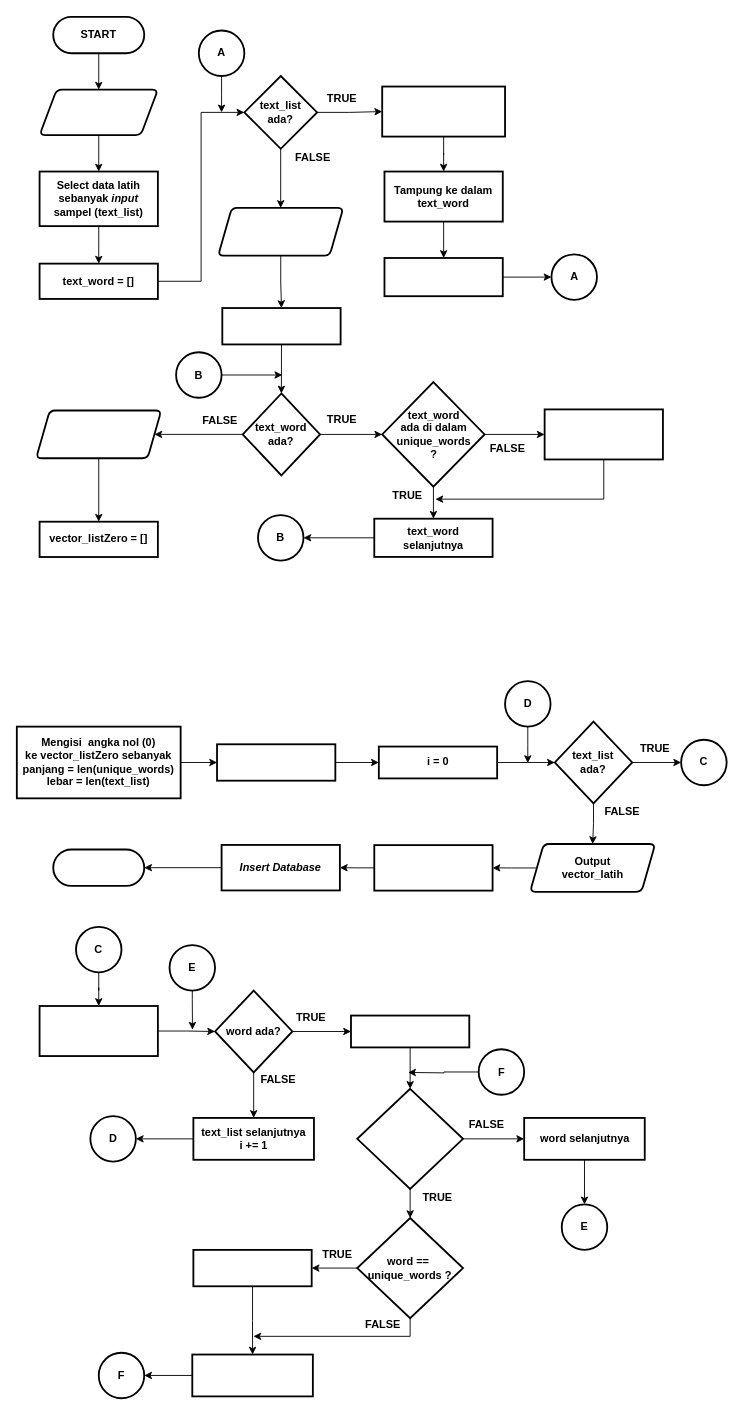
Image size: 743x1414. Some labels were removed from this diagram. Each missing label, with the centre of its shape:
"END" goes at (98,867).
"Input sampel positif & negatif" goes at (98,112).
"j = 0" goes at (410,1031).
"Output fitur kata ( unique_words )" goes at (98,434).
"Output list kata ( text_word )" goes at (280,231).
"Pecah menjadi satuan kata (word)" goes at (98,1031).
"Pecah text_list menjadi satuan kata" goes at (443,111).
"Simpan ke dalam file JSON" goes at (433,867).
"Tampung ke dalam unique_words" goes at (603,434).
"text_list selanjutnya" goes at (443,277).
"unique_words = []" goes at (281,326).
"unique_words ada?" goes at (409,1138).
"unique_words selanjutnya j += 1" goes at (252,1375).
"vector_latih = vector_listZero" goes at (276,762).
"vector_latih [i][j] += 1" goes at (252,1268).
